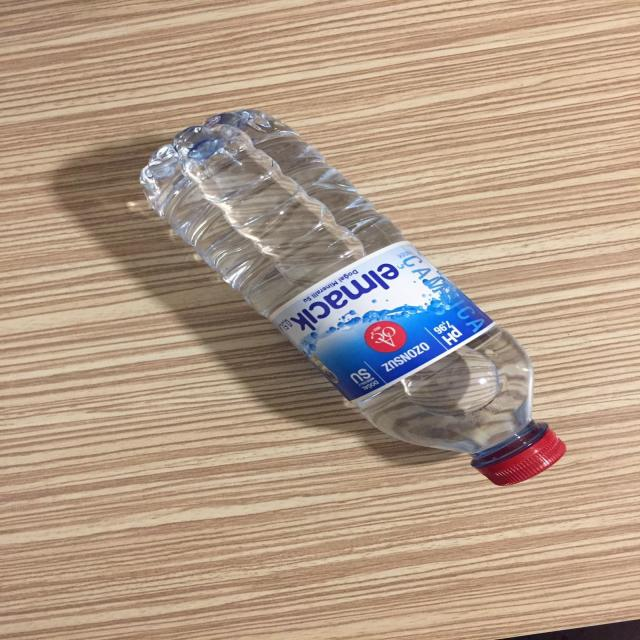anorganik: (124, 108, 582, 490)
